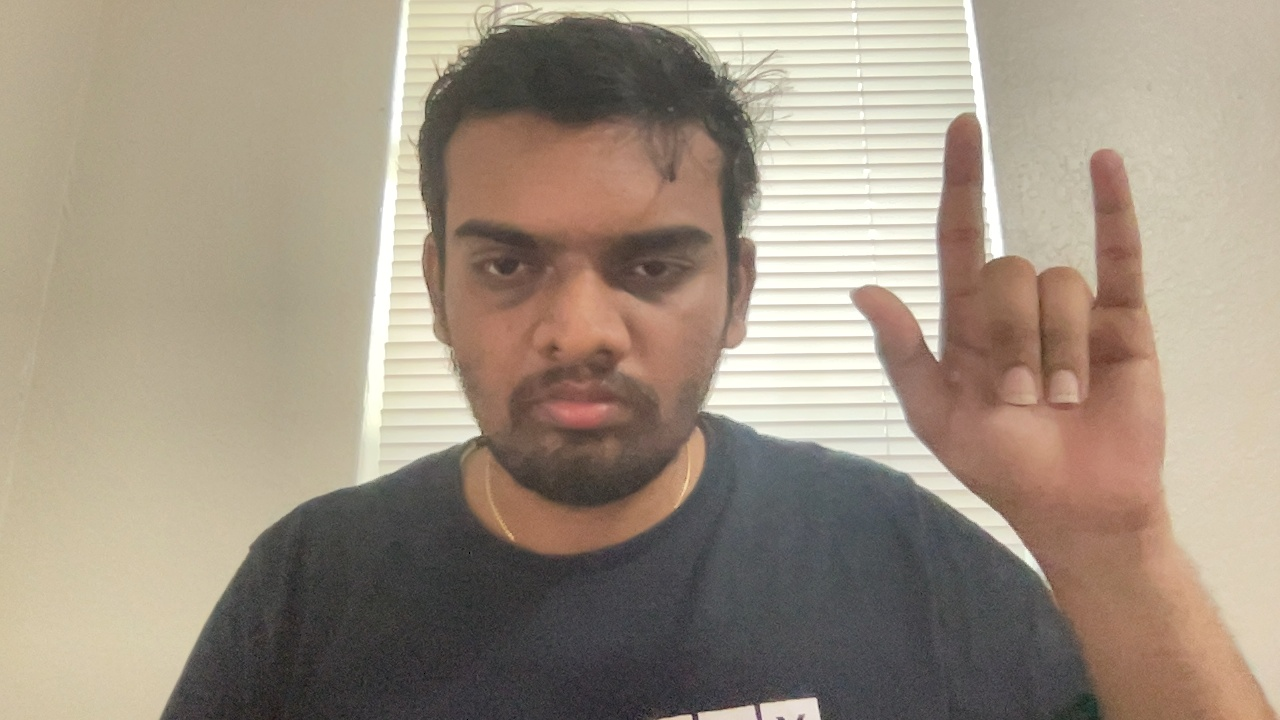i love you: (870, 106, 1180, 566)
